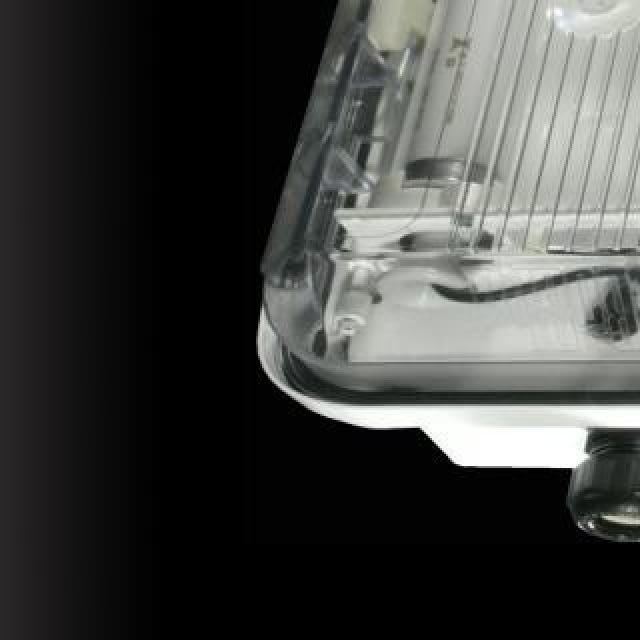fluorescent tube: (344, 0, 640, 256)
